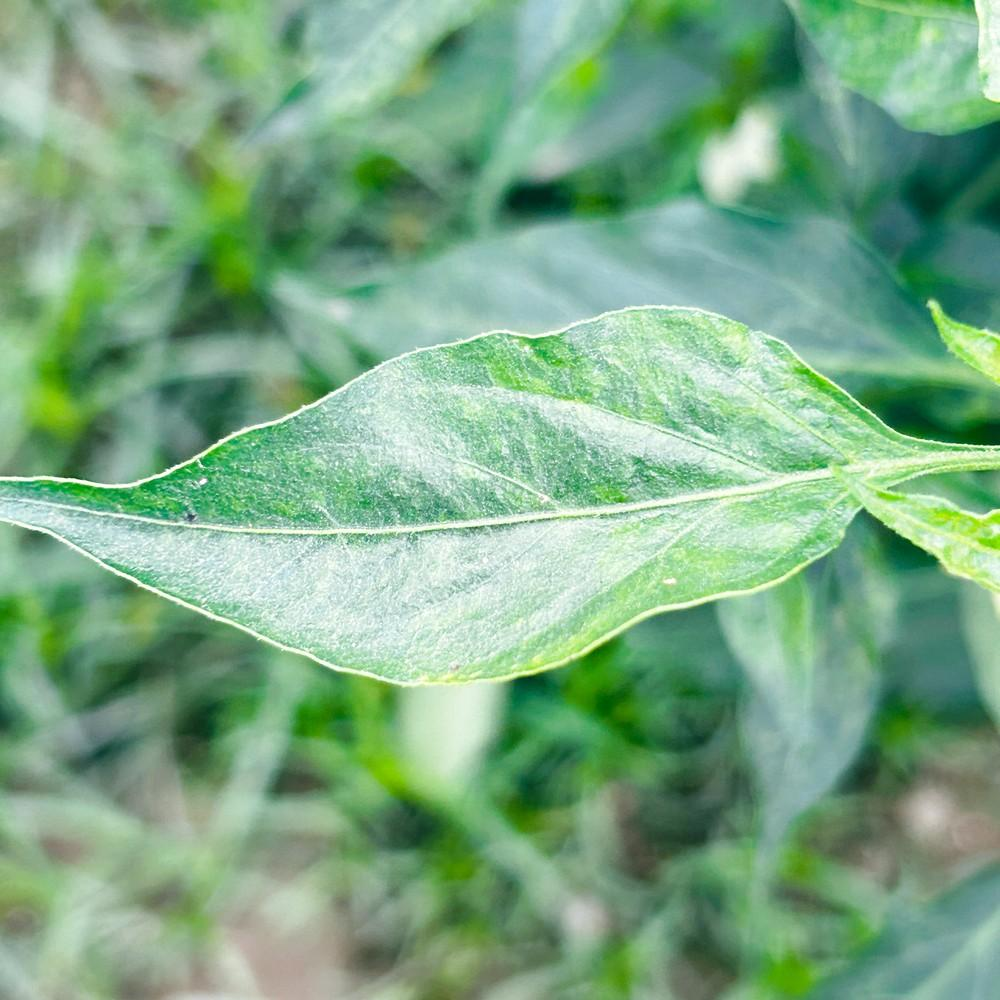Daun Cabai Sehat: (0, 300, 999, 688)
